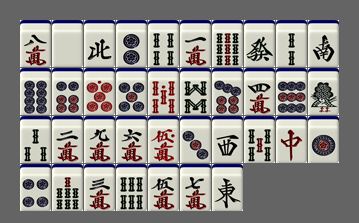0m: (148, 116, 179, 163)
0p: (84, 68, 115, 115)
0s: (148, 68, 179, 115)
1m: (180, 20, 211, 67)
1p: (308, 116, 339, 163)
1s: (308, 68, 339, 115)
1z: (212, 164, 243, 211)
2m: (52, 116, 83, 163)
2p: (116, 20, 147, 67)
2s: (276, 20, 307, 67)
2z: (308, 20, 339, 67)
3m: (84, 164, 115, 211)
3p: (180, 116, 211, 163)
3s: (20, 116, 51, 163)
3z: (212, 116, 243, 163)
4m: (244, 68, 275, 115)
4p: (20, 164, 51, 211)
4s: (148, 20, 179, 67)
4z: (84, 20, 115, 67)
5m: (148, 164, 179, 211)
5p: (116, 68, 147, 115)
5s: (244, 116, 275, 163)
5z: (52, 20, 83, 67)
6m: (116, 116, 147, 163)
6p: (52, 68, 83, 115)
6s: (116, 164, 147, 211)
6z: (244, 20, 275, 67)
7m: (180, 164, 211, 211)
7p: (212, 68, 243, 115)
7s: (52, 164, 83, 211)
7z: (276, 116, 307, 163)
8m: (20, 20, 51, 67)
8p: (20, 68, 51, 115)
8s: (180, 68, 211, 115)
9m: (84, 116, 115, 163)
9p: (276, 68, 307, 115)
9s: (212, 20, 243, 67)
